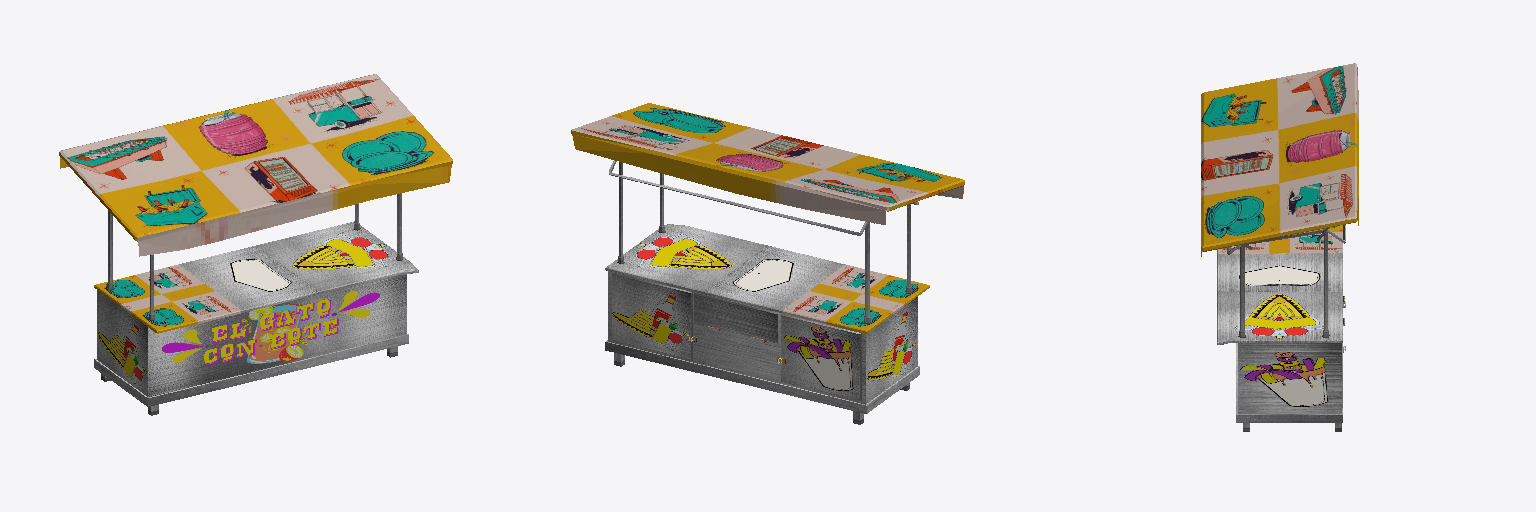
The picture shows the model from 3 angles: view 1: azimuth 30°, elevation 25°; view 2: azimuth 150°, elevation 25°; view 3: azimuth 270°, elevation 25°; orthographic projection.
Parts seen in each view (by area): view 1: Cylinder031; view 2: Cylinder031; view 3: Cylinder031.
Boxes of the visible parts, x1=… form: Cylinder031: x1=59, y1=74, x2=452, y2=415; Cylinder031: x1=571, y1=103, x2=964, y2=424; Cylinder031: x1=1201, y1=63, x2=1358, y2=431.
Size of the model in its own units: 25.34 by 17.7 by 10.97.
1 materials, 1 textured.